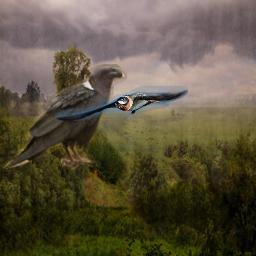Crow: (3, 64, 127, 173)
Swallow: (55, 86, 188, 121)
